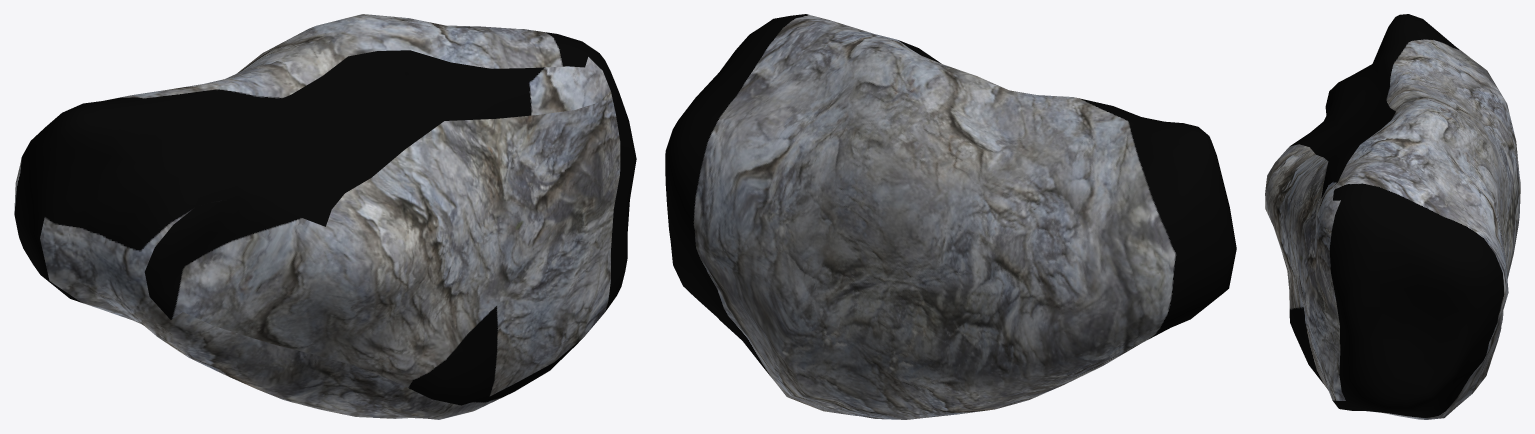
The model's file is rock_04.FBX.
The picture shows the model from 3 angles, left to right: view 1: azimuth 30°, elevation 25°; view 2: azimuth 150°, elevation 25°; view 3: azimuth 270°, elevation 25°; orthographic projection. The views are drawn at different scales.
Parts seen in each view (by area): view 1: Group9847; view 2: Group9847; view 3: Group9847.
Boxes of the visible parts, <box> form: Group9847: <box>14,14,636,419</box>; Group9847: <box>665,14,1236,419</box>; Group9847: <box>1265,14,1520,419</box>.
Bounding box in the file's own units: 3.47 × 1.84 × 2.24.
